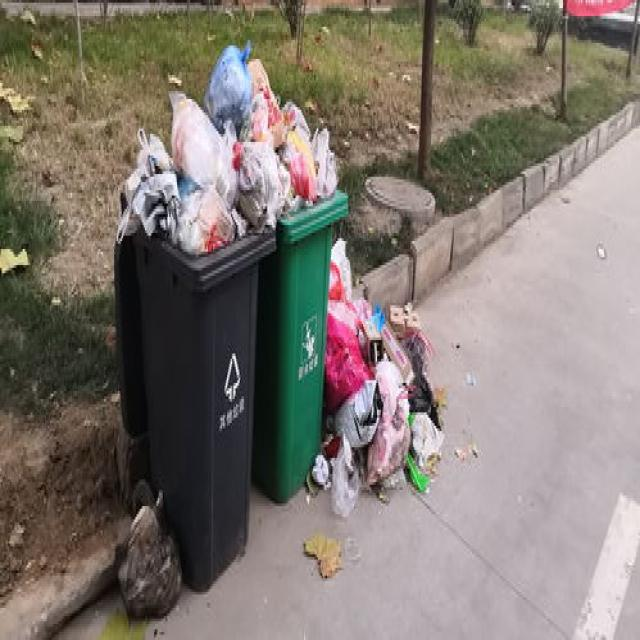garbage: (306, 233, 446, 514), (114, 479, 182, 616)
overflow: (112, 40, 274, 592), (248, 56, 346, 501)
